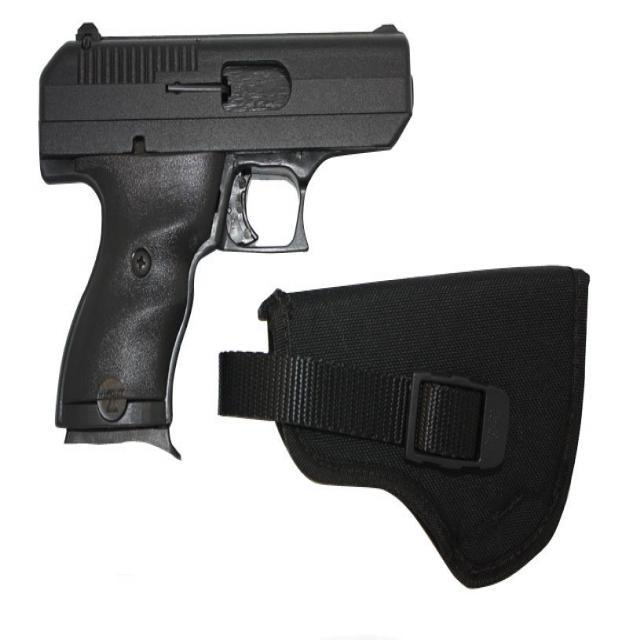pistol: (26, 7, 426, 470)
